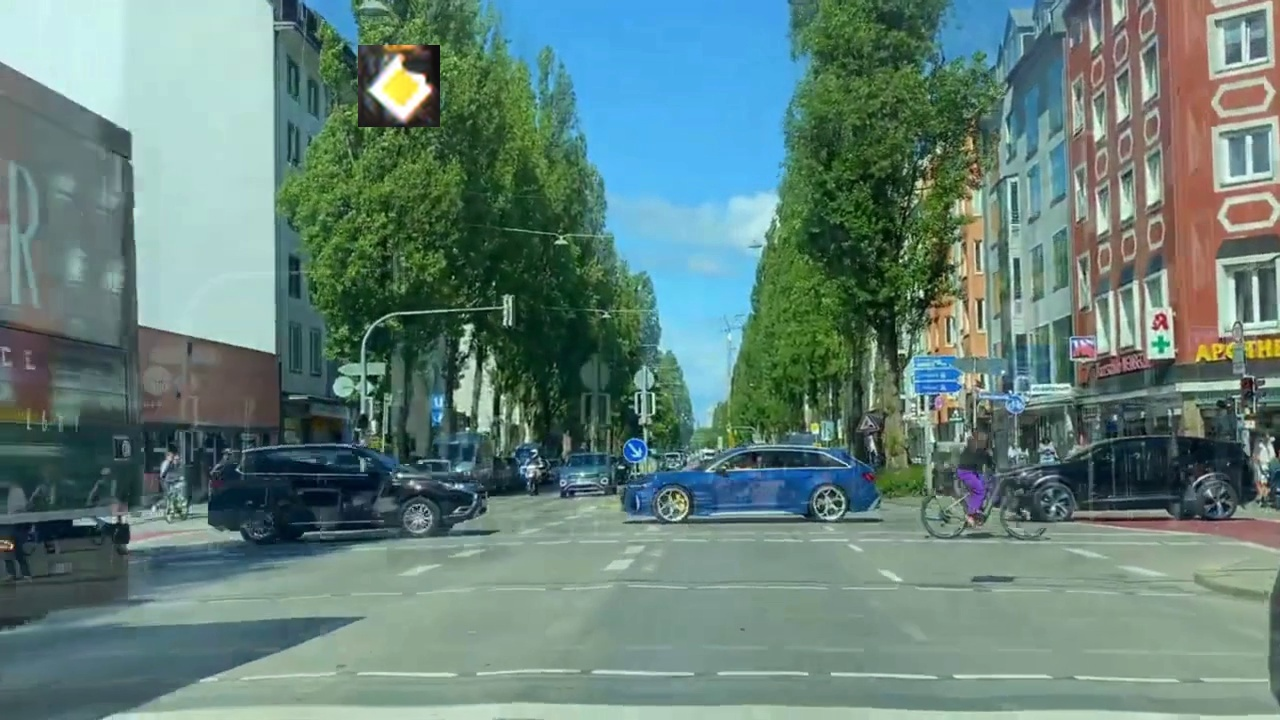Priority road: (358, 45, 440, 127)
